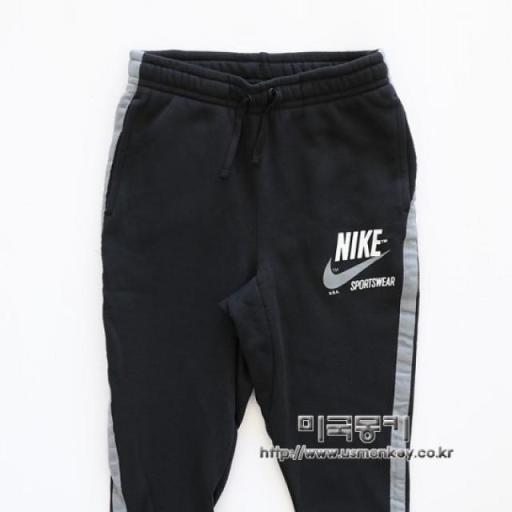Nike: (322, 253, 385, 290), (334, 227, 383, 262)
